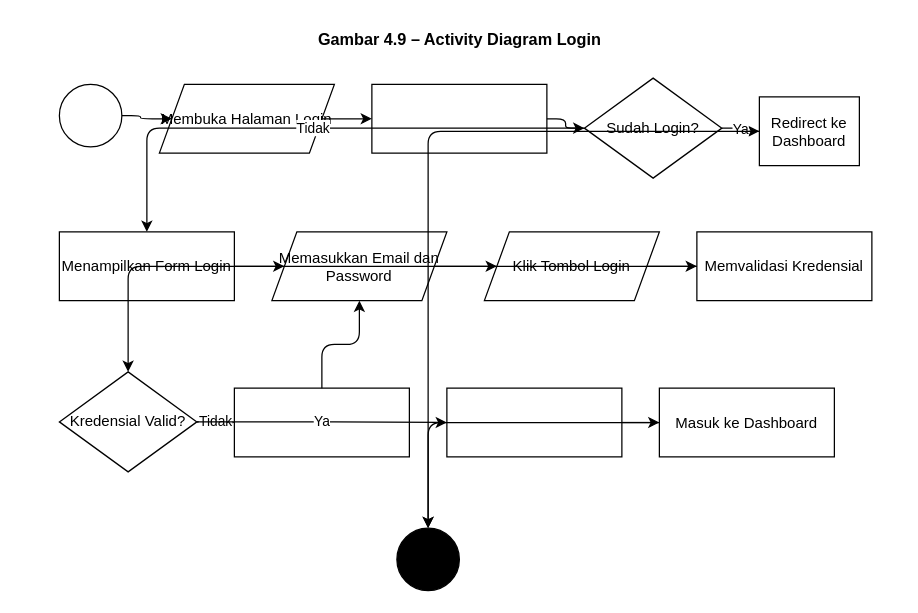
Some shapes in this 918 by 613 pixel diagram are drawn without their labels. The centre of each missing label's shape, as x and y in pixels:
"END" goes at point 427,559.
"Melihat Pesan Error" goes at point 321,422.
"Membuat Sesi dan Redirect" goes at point 534,422.
"Memeriksa Status Sesi" goes at point 459,118.
"START" goes at point 90,115.
